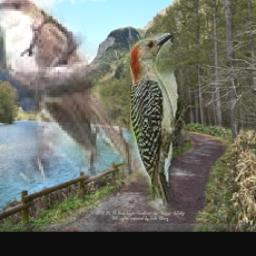Cuckoo: (0, 0, 156, 182)
Woodpecker: (131, 33, 197, 217)
